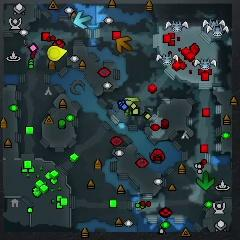p4: (47, 45, 67, 61)
x2: (124, 97, 139, 108)
x3: (74, 11, 92, 29)
x4: (196, 170, 214, 190)
x5: (116, 36, 132, 52)
